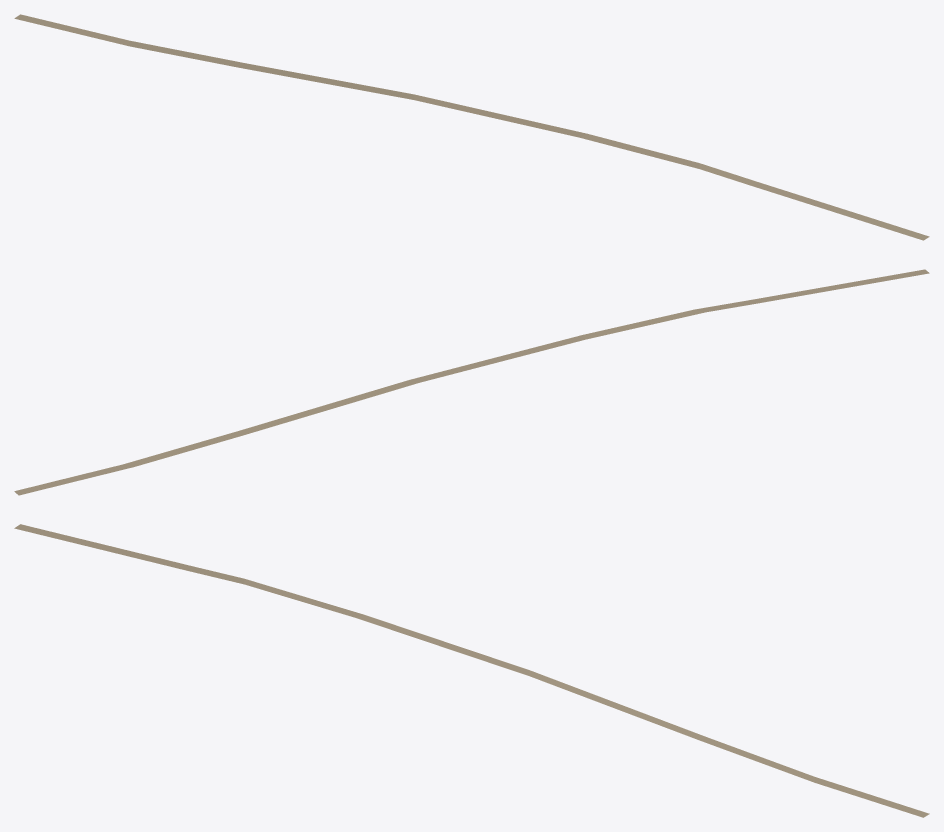
File: farm_-24_-24_track.glb
3 renders of one model, top to bottom at view 1: azimuth 90°, elevation 25°; view 2: azimuth 150°, elevation 25°; view 3: azimuth 270°, elevation 25°, orthographic. The views are drawn at different scales.
Parts seen in each view (by area): view 1: geometry_0; view 2: geometry_0; view 3: geometry_0.
Boxes of the visible parts, box(x1,y1,x2,y2) form: geometry_0: box(14, 14, 929, 240); geometry_0: box(14, 269, 929, 495); geometry_0: box(14, 524, 929, 817).
Size of the model in its own units: 173 by 13.14 by 257.
